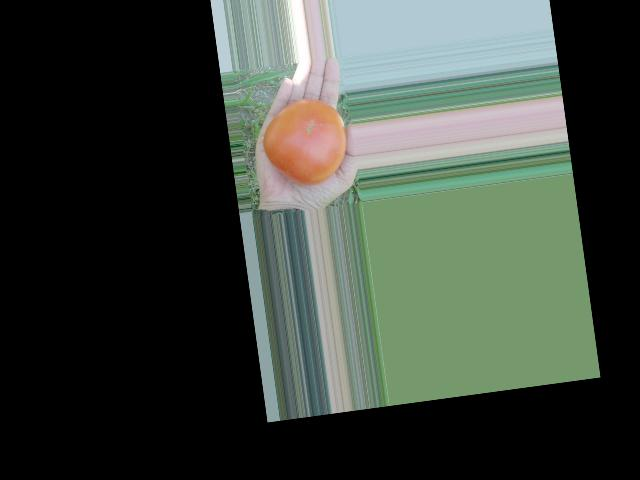tomato: (257, 94, 351, 189)
